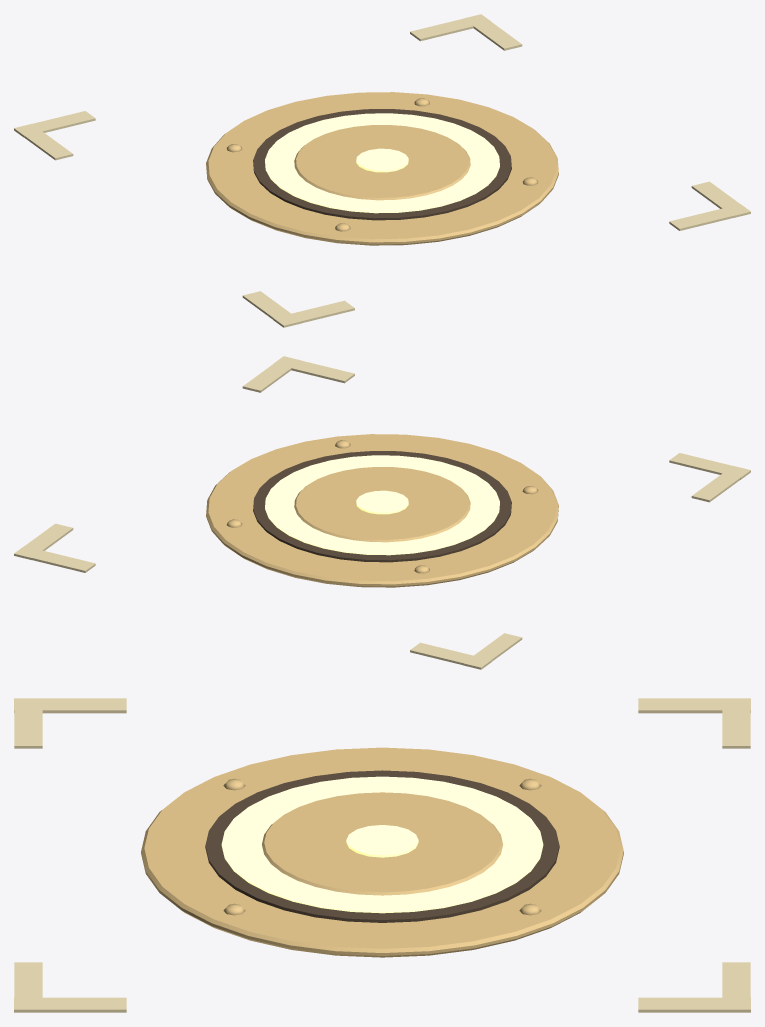
File: goal.glb
The picture shows the model from 3 angles, top to bottom: view 1: azimuth 30°, elevation 25°; view 2: azimuth 150°, elevation 25°; view 3: azimuth 270°, elevation 25°; orthographic projection. The views are drawn at different scales.
Parts seen in each view (by area): view 1: goal; view 2: goal; view 3: goal.
Boxes of the visible parts, bbox=[...] form: goal: bbox=[14, 14, 750, 327]; goal: bbox=[14, 356, 750, 669]; goal: bbox=[14, 698, 750, 1012].
Size of the model in its own units: 0.916 by 0.023 by 0.916.
